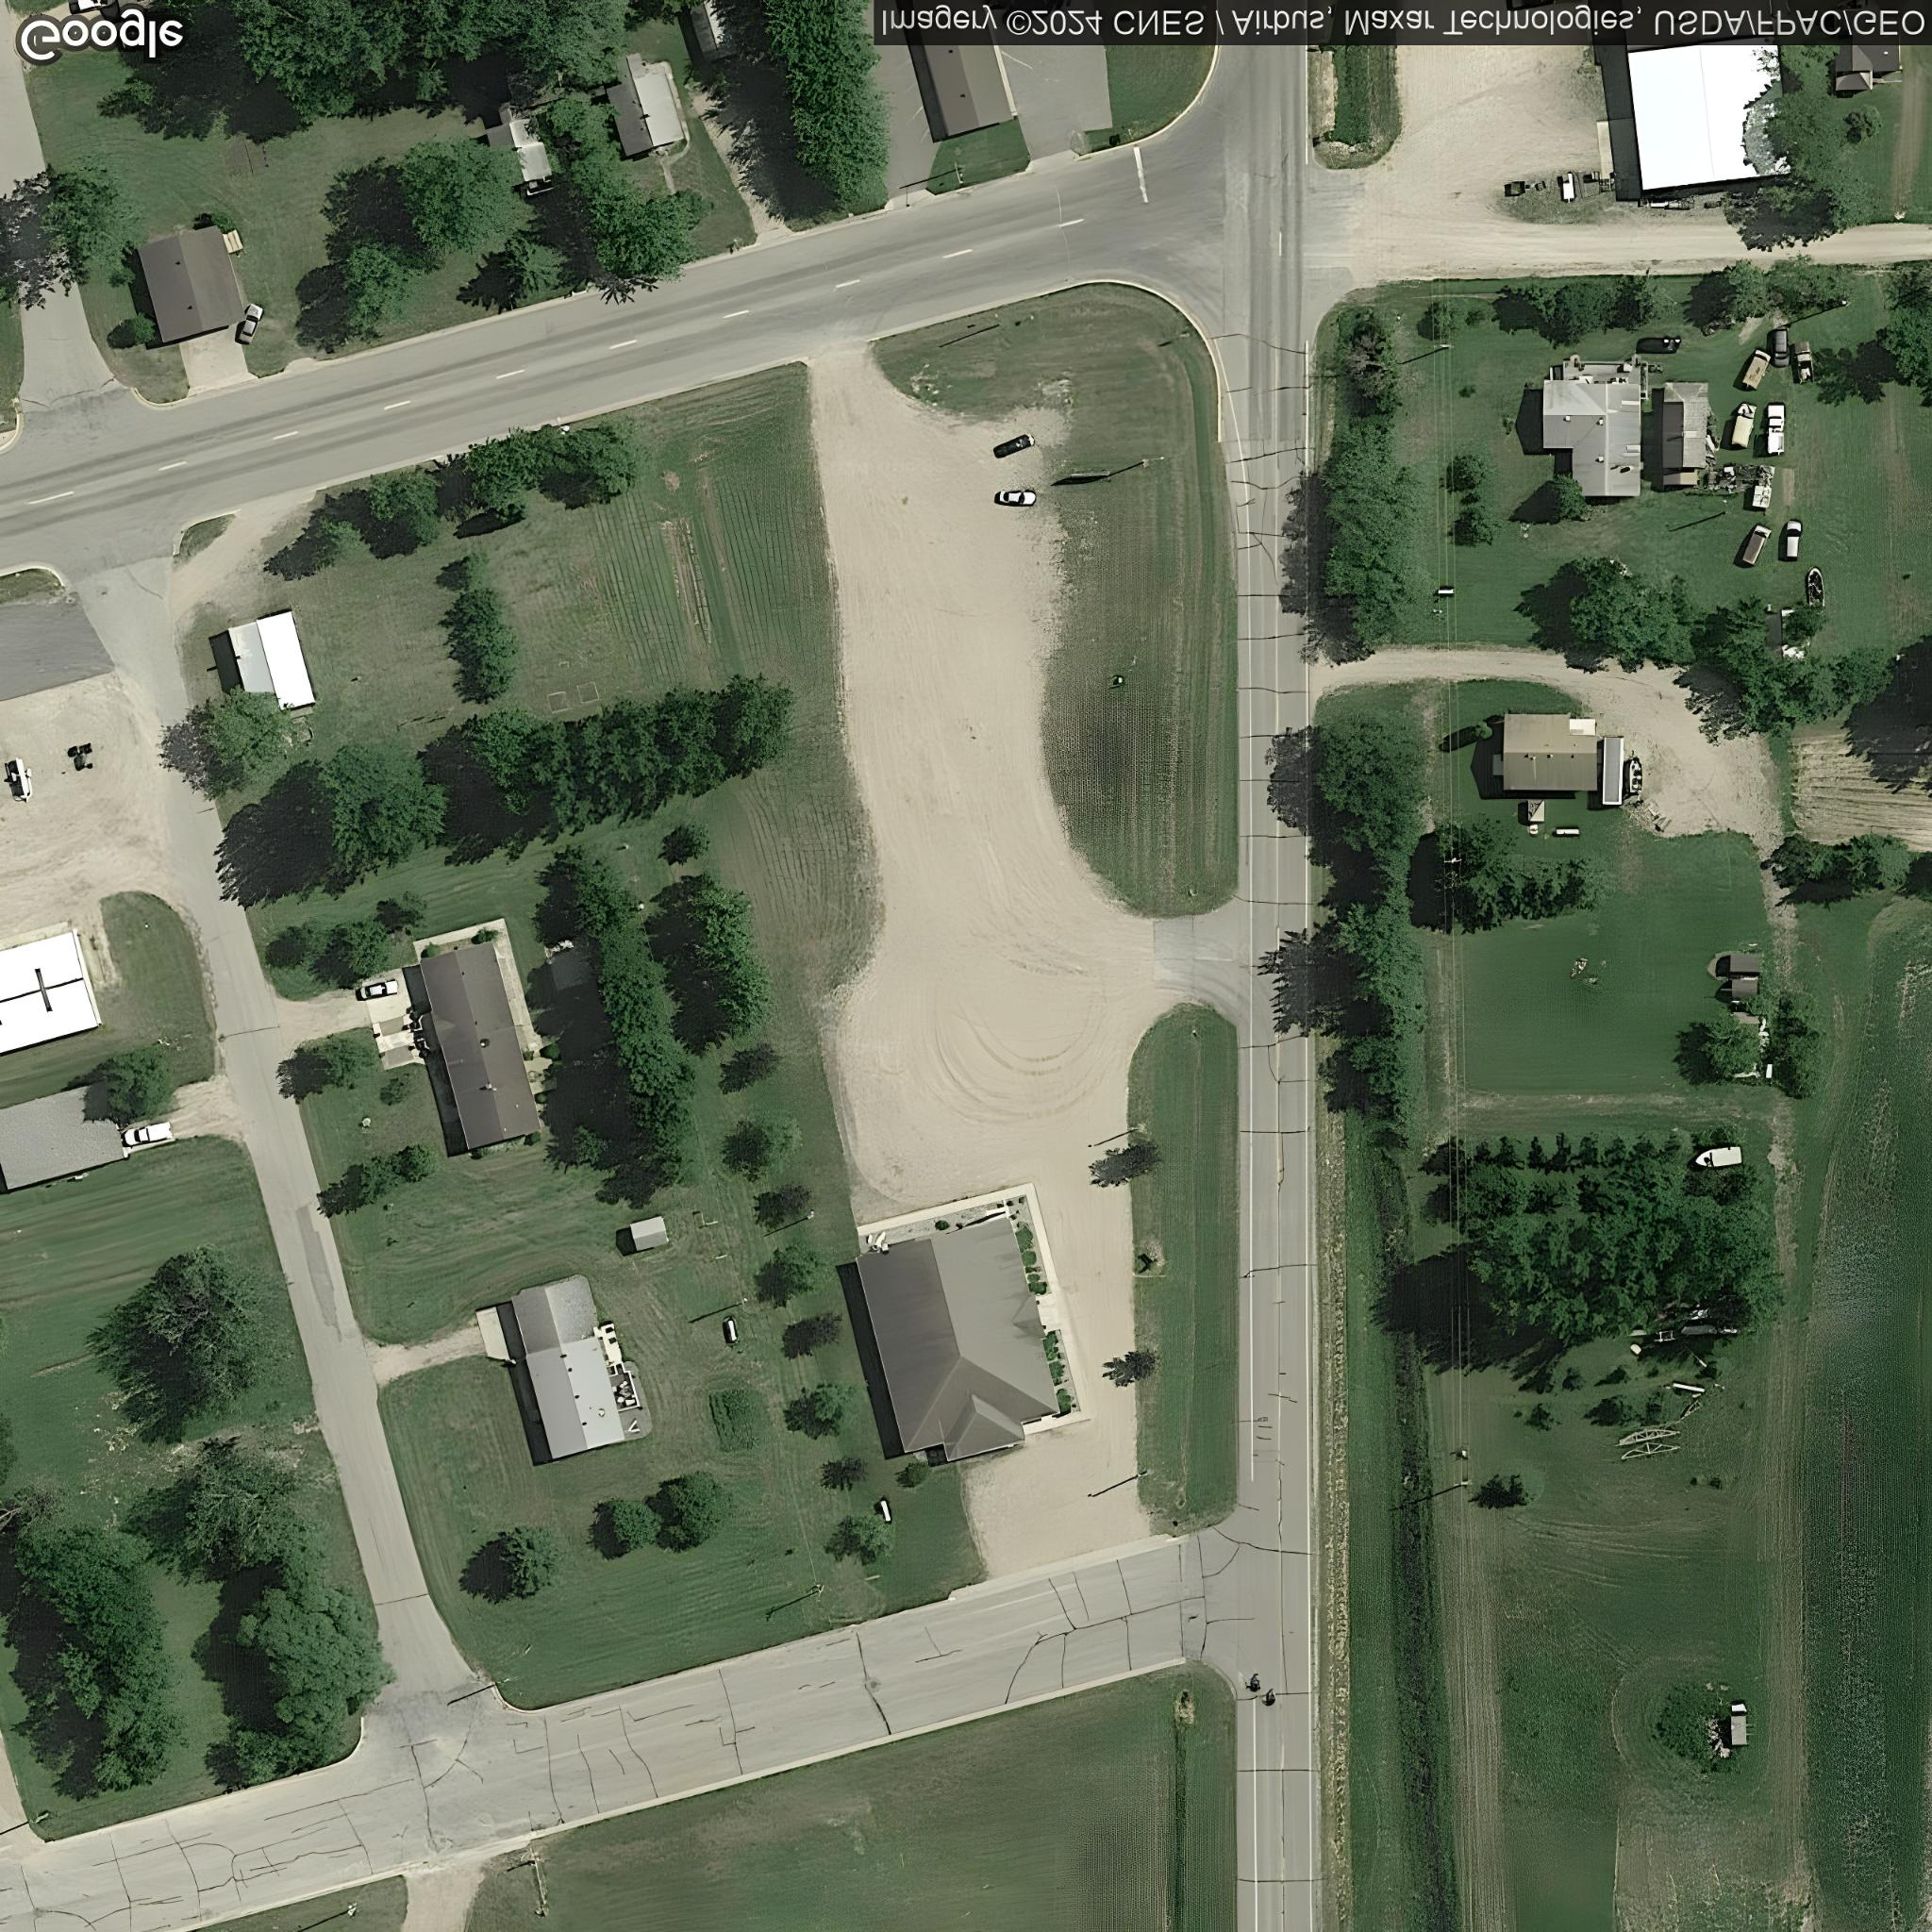Garage: (134, 226, 248, 345), (228, 610, 317, 717)
House: (853, 1214, 1062, 1461), (416, 941, 541, 1150), (1626, 44, 1792, 189), (511, 1272, 628, 1461), (0, 1079, 127, 1191), (1543, 379, 1644, 497), (922, 46, 1017, 140), (607, 53, 685, 157), (1502, 713, 1603, 793), (483, 115, 552, 189), (1661, 380, 1709, 487), (1835, 41, 1902, 90)
Propane: (878, 1493, 893, 1527), (725, 1320, 738, 1345), (1553, 826, 1582, 835), (1437, 584, 1456, 594)
